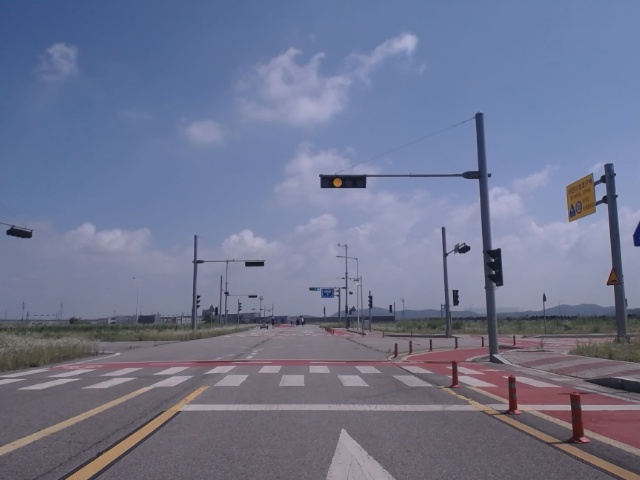orange_4: (322, 175, 366, 189)
